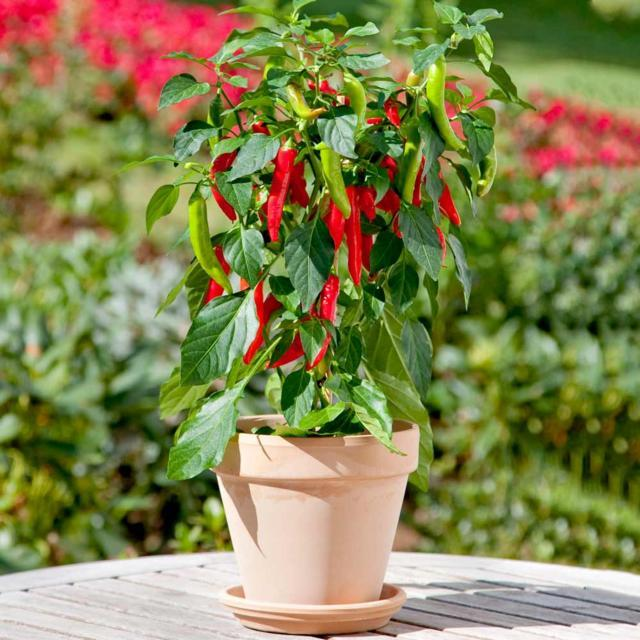plant: (138, 0, 529, 487)
